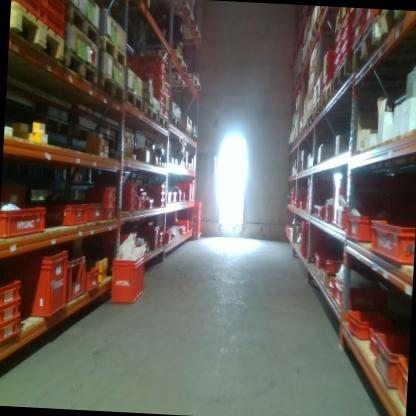pallet: (8, 0, 68, 77), (349, 11, 389, 80), (60, 0, 103, 48), (130, 42, 188, 77), (61, 53, 101, 91), (379, 10, 416, 45), (152, 0, 194, 28), (332, 47, 355, 96), (94, 34, 129, 66), (166, 67, 202, 96), (117, 83, 144, 116), (94, 78, 126, 104), (130, 101, 159, 124), (180, 22, 202, 45), (320, 76, 333, 113), (309, 95, 323, 126), (149, 112, 170, 132), (308, 16, 321, 46), (161, 113, 181, 131), (177, 123, 192, 141), (302, 114, 311, 135), (191, 135, 199, 145), (194, 233, 201, 240)
small_load_carrier: (12, 245, 69, 325), (367, 212, 415, 266), (0, 202, 47, 244), (111, 250, 145, 305), (372, 328, 403, 388), (42, 200, 87, 229), (67, 250, 90, 305), (343, 205, 371, 242), (346, 305, 378, 337), (0, 316, 21, 351), (41, 12, 67, 40), (11, 0, 44, 22), (0, 297, 22, 329), (332, 283, 354, 315), (137, 222, 160, 252), (0, 277, 22, 307), (137, 52, 169, 72), (81, 196, 103, 225), (394, 358, 408, 403), (350, 12, 363, 53), (42, 0, 65, 21), (362, 319, 377, 351), (142, 80, 171, 95), (86, 266, 101, 294), (324, 258, 345, 276), (85, 184, 117, 195), (137, 66, 166, 78), (361, 8, 380, 26), (120, 203, 138, 220), (312, 251, 325, 272), (153, 89, 168, 107), (119, 180, 139, 192), (121, 191, 138, 204), (102, 209, 118, 222), (103, 195, 117, 209), (145, 183, 165, 192), (186, 179, 195, 199), (178, 181, 193, 192), (45, 0, 67, 7), (135, 194, 143, 210), (152, 192, 165, 200), (152, 199, 165, 207), (155, 104, 164, 115), (175, 218, 189, 225), (146, 199, 154, 211), (166, 190, 173, 203), (192, 218, 201, 227), (158, 236, 165, 247), (159, 226, 164, 239), (193, 210, 201, 218), (192, 227, 201, 234), (163, 111, 169, 121), (193, 202, 200, 210), (176, 189, 181, 200), (172, 192, 177, 202), (180, 191, 185, 201), (185, 192, 192, 199)
